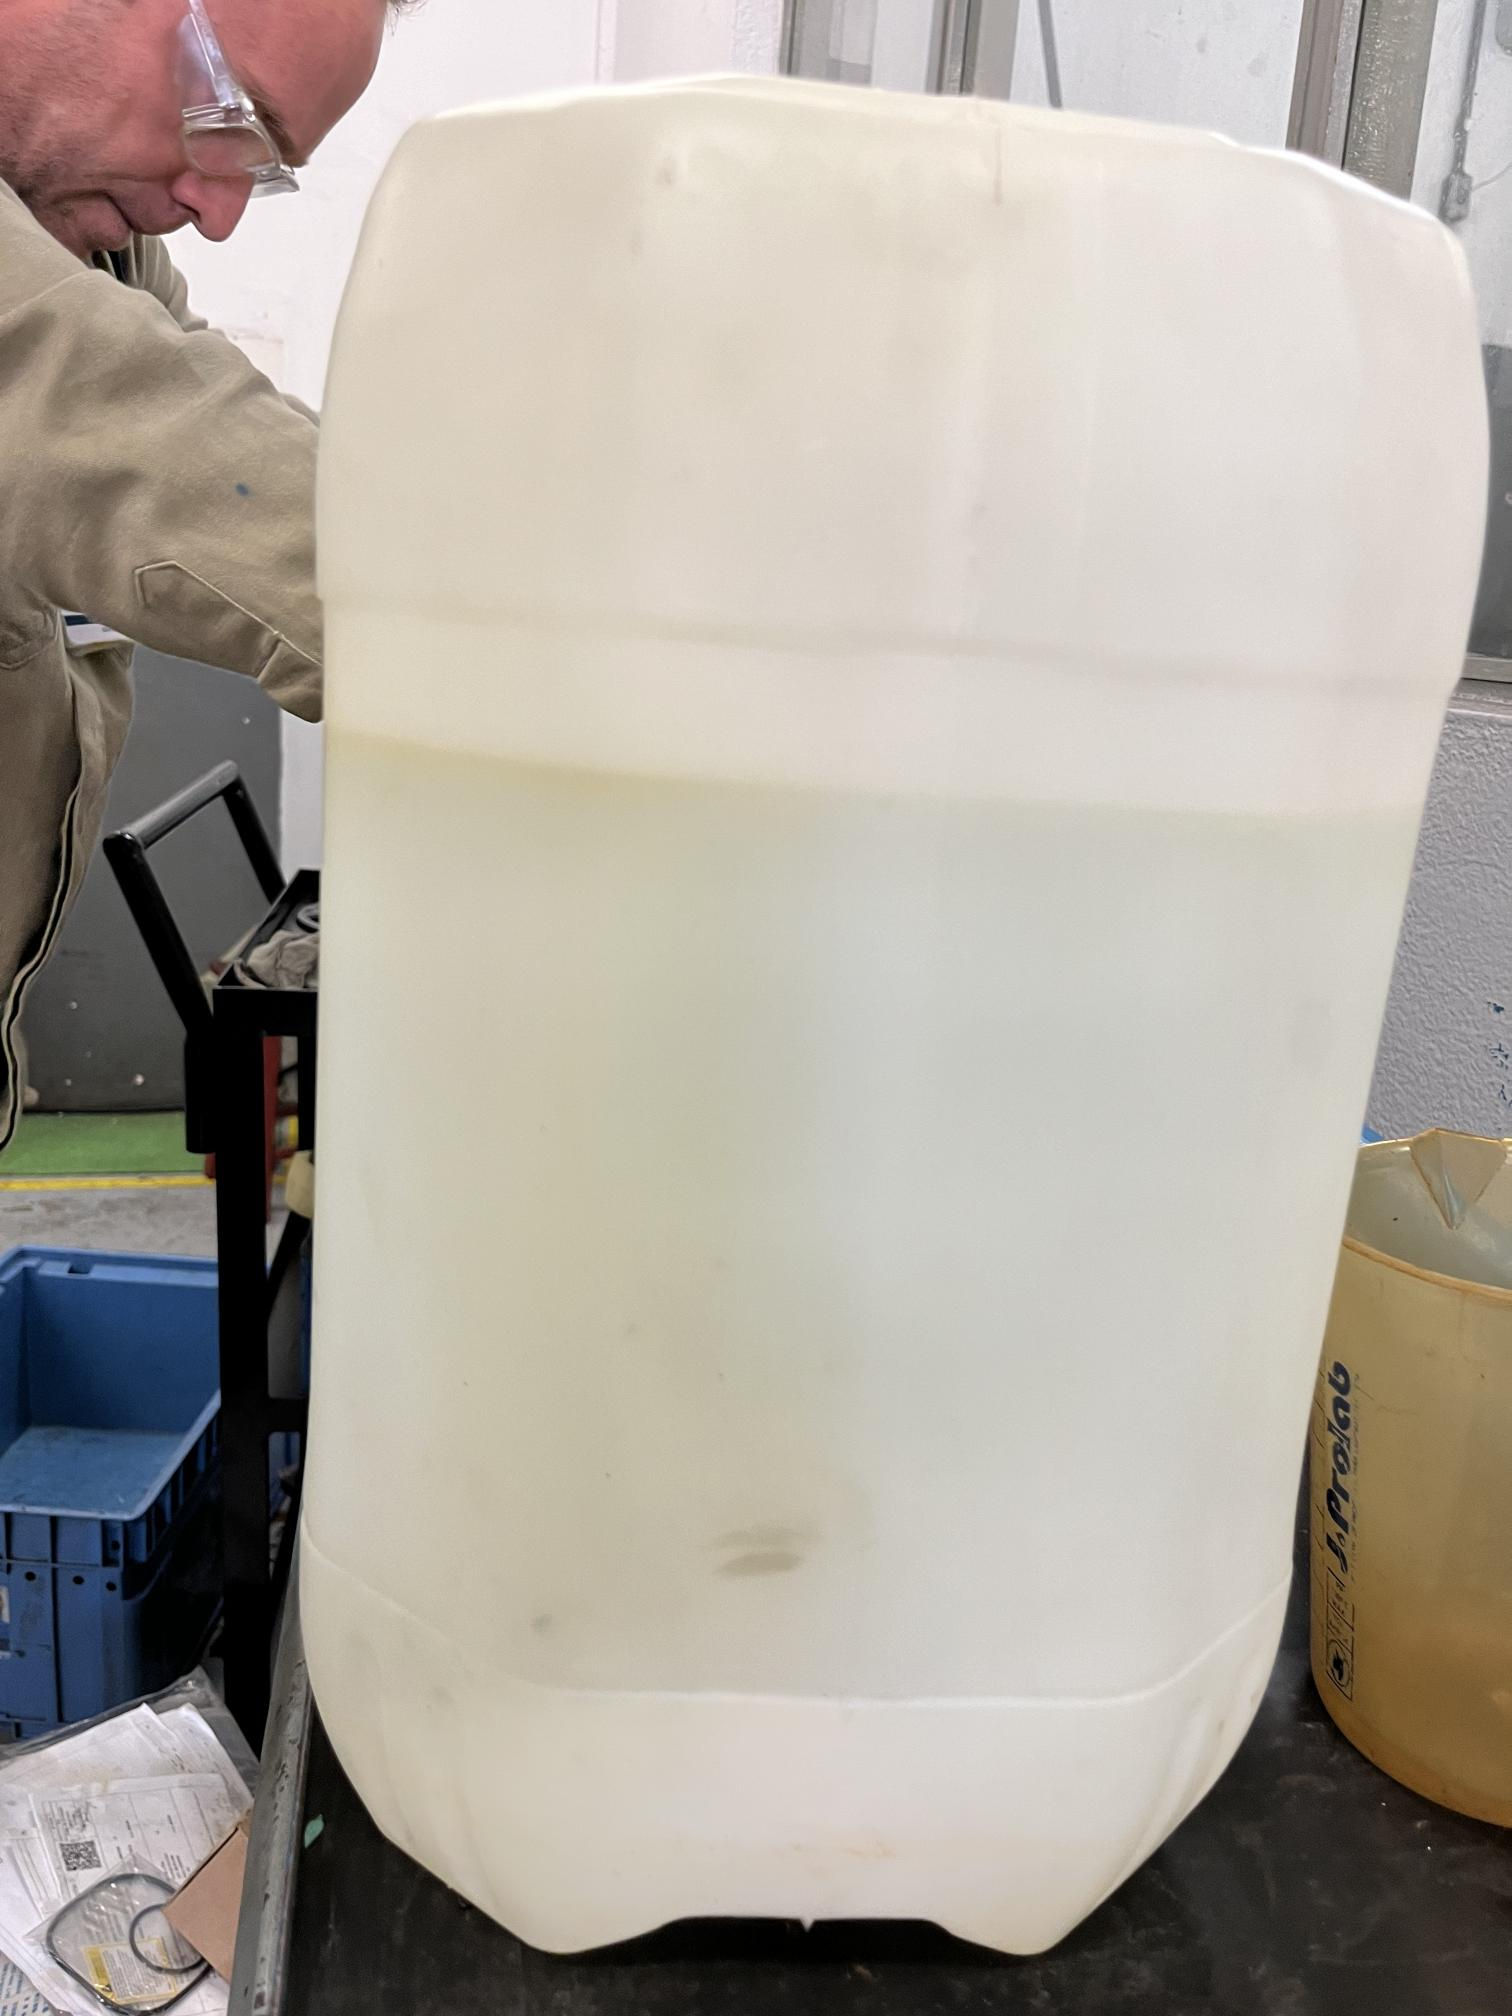Galao: (260, 43, 1461, 1986)
